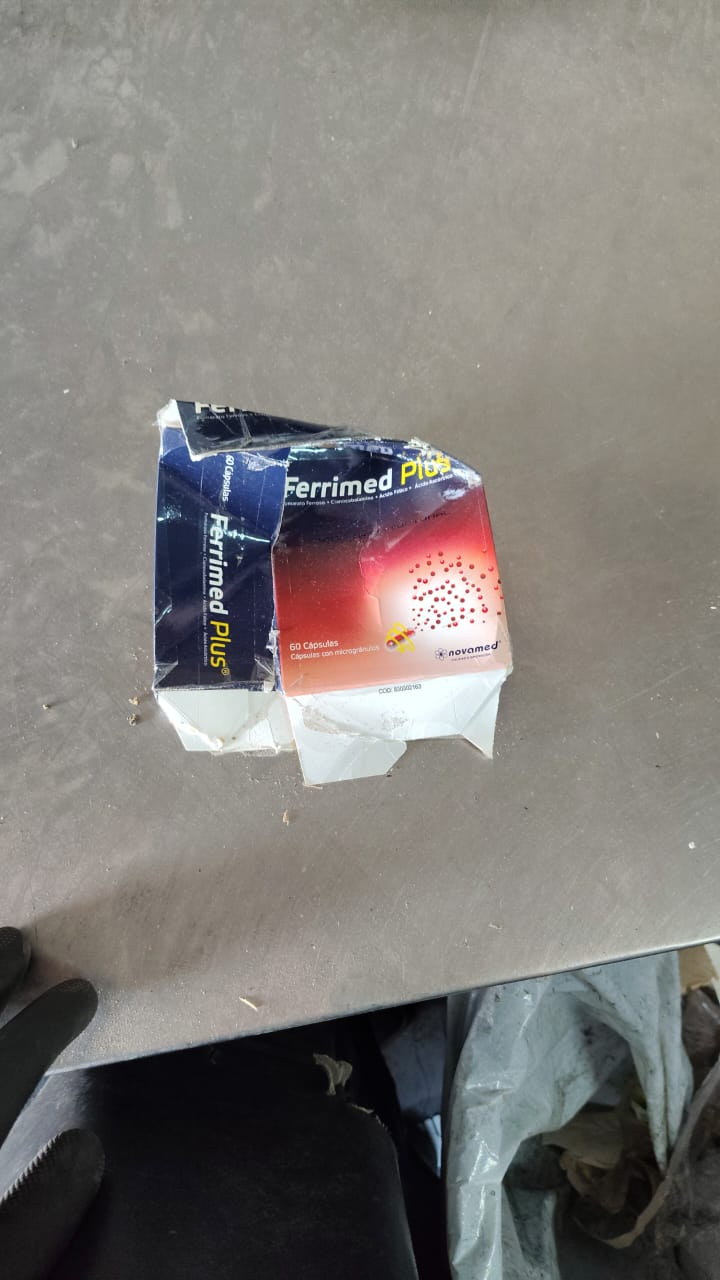Carton: (150, 400, 512, 787)
